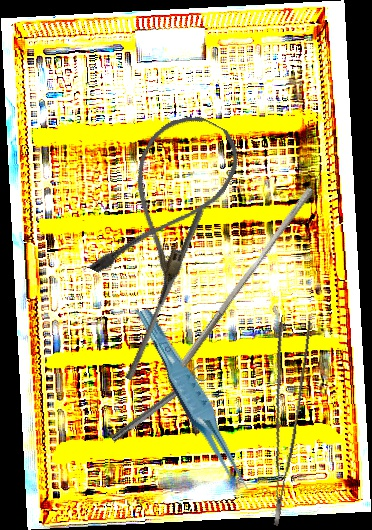Cannula: (83, 100, 251, 308)
Fixation Ring: (106, 364, 210, 447)
Pusher: (178, 182, 316, 374), (124, 205, 205, 383)
Tissue Forceps: (135, 300, 252, 504), (238, 315, 322, 526)
